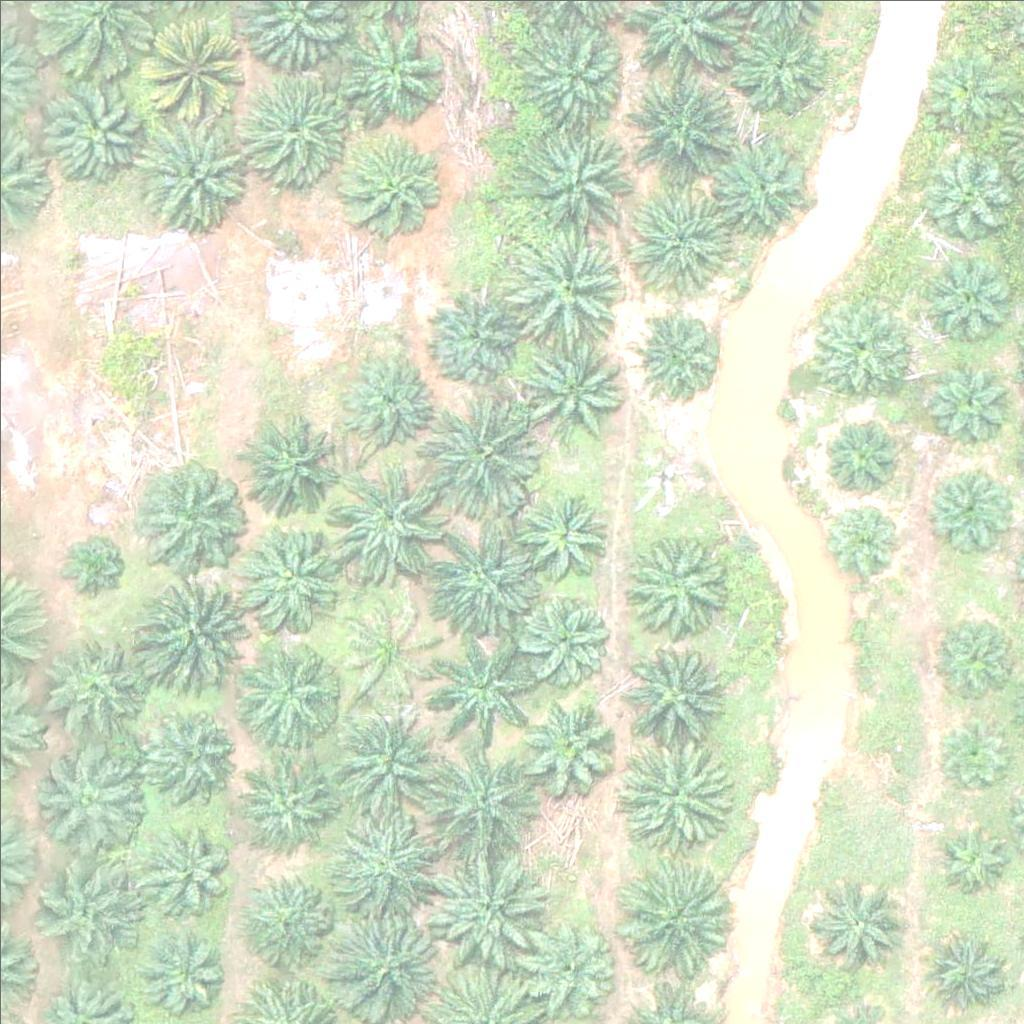Kelapa_Sawit: (512, 23, 625, 137), (424, 395, 537, 509), (521, 118, 634, 232), (623, 182, 736, 296), (617, 864, 730, 978), (335, 9, 448, 122), (41, 70, 154, 183), (36, 740, 149, 853), (137, 571, 250, 684), (423, 522, 536, 635), (433, 848, 546, 961), (621, 741, 734, 854), (230, 520, 342, 634), (329, 809, 441, 923), (328, 696, 440, 810), (335, 131, 447, 245), (625, 74, 737, 188), (615, 631, 727, 745), (139, 113, 251, 226), (249, 69, 361, 182), (30, 857, 142, 970), (136, 455, 248, 568), (332, 466, 444, 579), (427, 635, 539, 748), (423, 750, 535, 863), (511, 342, 623, 455), (507, 228, 619, 341), (730, 14, 830, 115), (40, 633, 140, 734), (143, 701, 243, 802), (334, 605, 434, 706), (427, 287, 527, 388), (517, 587, 617, 688), (513, 491, 613, 592), (624, 535, 724, 636), (809, 871, 909, 972), (811, 302, 911, 403), (919, 241, 1019, 342), (711, 134, 811, 235), (146, 11, 246, 111), (241, 415, 341, 515), (237, 744, 337, 844), (244, 643, 344, 743), (338, 342, 438, 442), (520, 695, 620, 795), (517, 918, 617, 1018), (144, 827, 232, 915), (247, 873, 335, 961), (934, 611, 1022, 699), (920, 50, 1008, 138), (141, 930, 229, 1018), (918, 925, 1006, 1013), (636, 314, 723, 402), (924, 458, 1011, 546), (817, 412, 904, 500), (923, 142, 1010, 230), (928, 363, 1015, 451), (935, 710, 1010, 786), (826, 497, 901, 573), (932, 816, 1007, 891), (55, 530, 130, 605)
